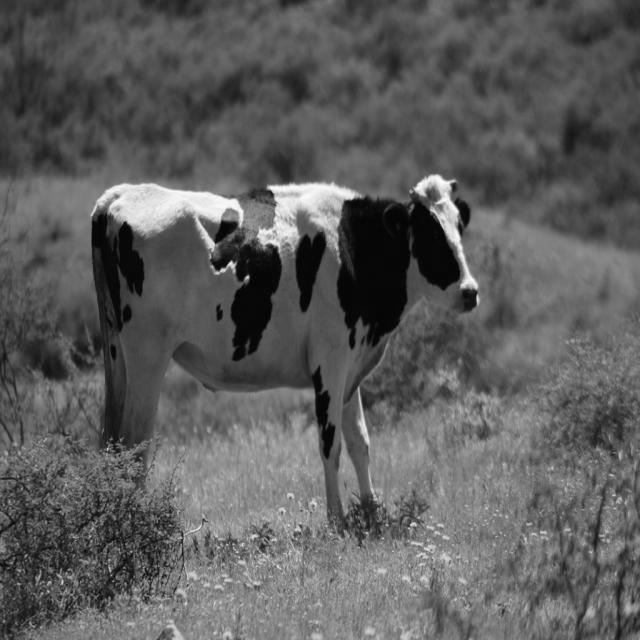cow: (91, 175, 478, 518)
